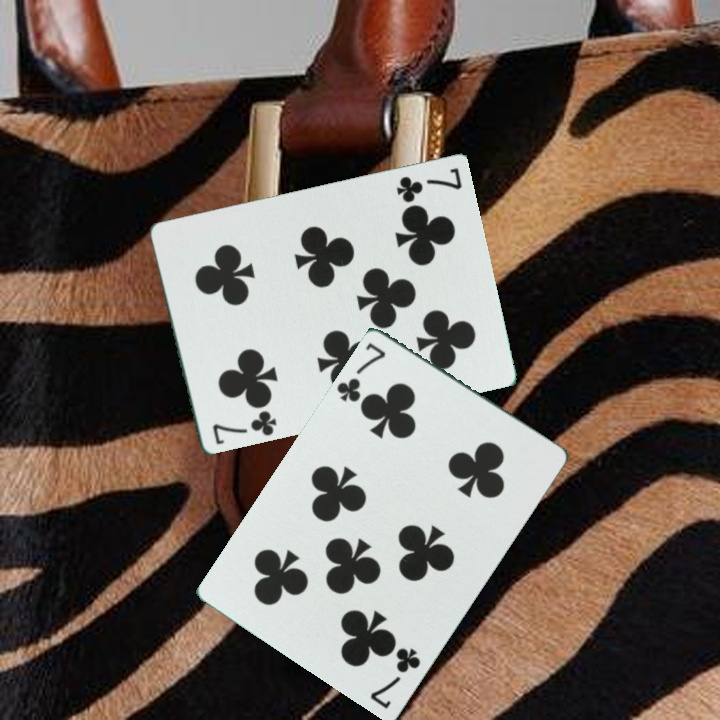7c: (367, 643, 424, 711), (333, 338, 389, 405), (208, 407, 280, 449), (392, 165, 464, 203)
